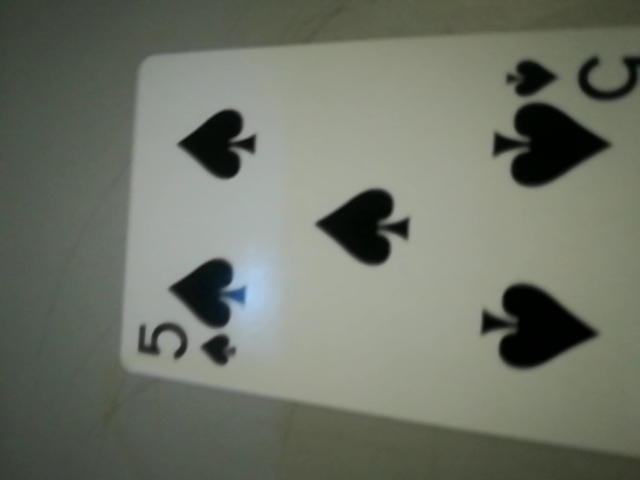ht 5: (490, 44, 640, 129)
